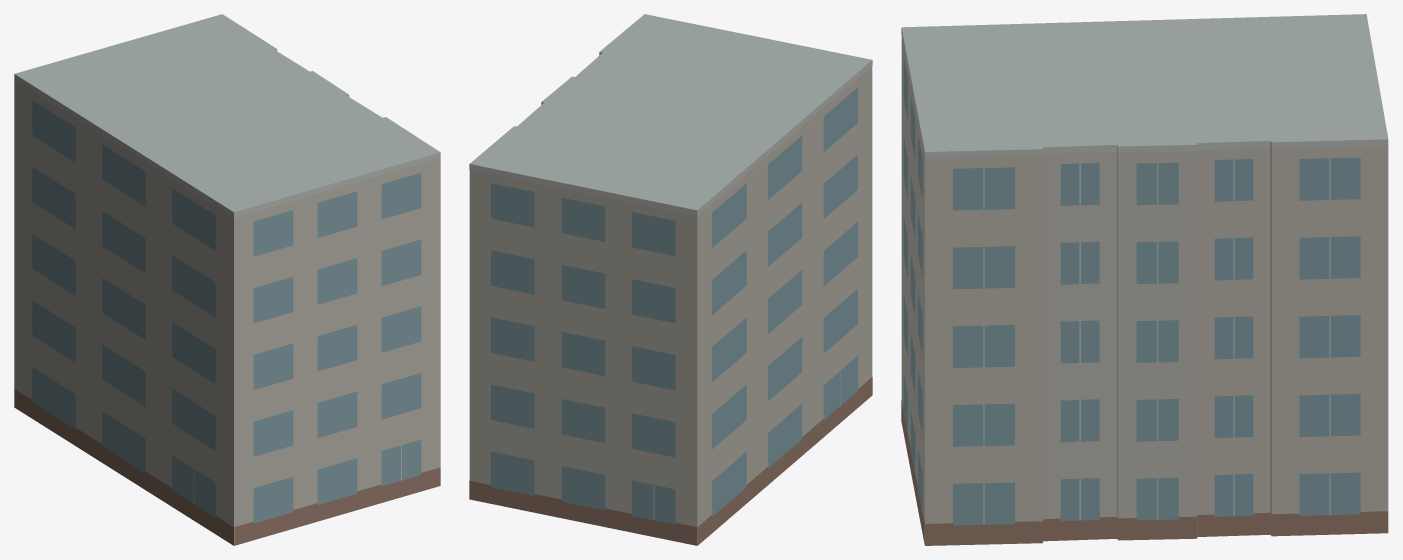
File: survey-upis-32739110.glb
3 renders of one model, left to right at view 1: azimuth 30°, elevation 25°; view 2: azimuth 150°, elevation 25°; view 3: azimuth 270°, elevation 25°, orthographic. The views are drawn at different scales.
Parts seen in each view (by area): view 1: survey-upis-32739110.tmp; view 2: survey-upis-32739110.tmp; view 3: survey-upis-32739110.tmp.
Part boxes in pixels (bbox=[...]): survey-upis-32739110.tmp: bbox=[14, 14, 440, 545]; survey-upis-32739110.tmp: bbox=[469, 14, 872, 545]; survey-upis-32739110.tmp: bbox=[901, 14, 1388, 545].
Bounding box in the file's own units: 10.83 × 14.4 × 16.15.
